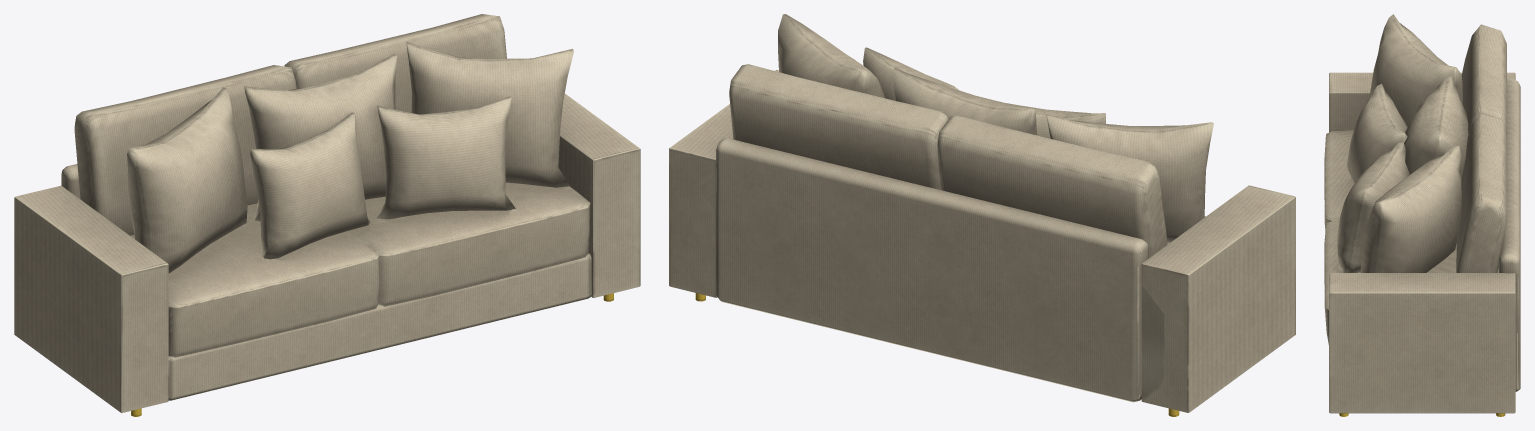
Rendered from Sofa01.fbx.
3 views of the same model, side by side, from view 1: azimuth 30°, elevation 25°; view 2: azimuth 150°, elevation 25°; view 3: azimuth 270°, elevation 25° (orthographic). The views are drawn at different scales.
Parts seen in each view (by area): view 1: Sofa_03; view 2: Sofa_03; view 3: Sofa_03.
Part boxes in pixels (left/top/right/bottom): Sofa_03: left=14, top=14, right=640, bottom=416; Sofa_03: left=669, top=14, right=1295, bottom=416; Sofa_03: left=1324, top=14, right=1520, bottom=416.
Bounding box in the file's own units: 23.68 × 10.6 × 8.9.
1 material, 1 textured.
